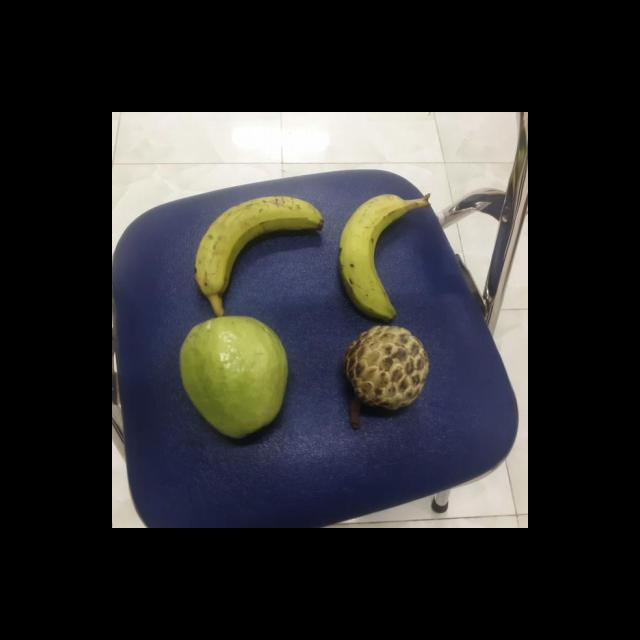Sakya fruit: (340, 321, 430, 412)
banana: (192, 190, 325, 304), (334, 190, 416, 320)
guava: (176, 308, 292, 442)
